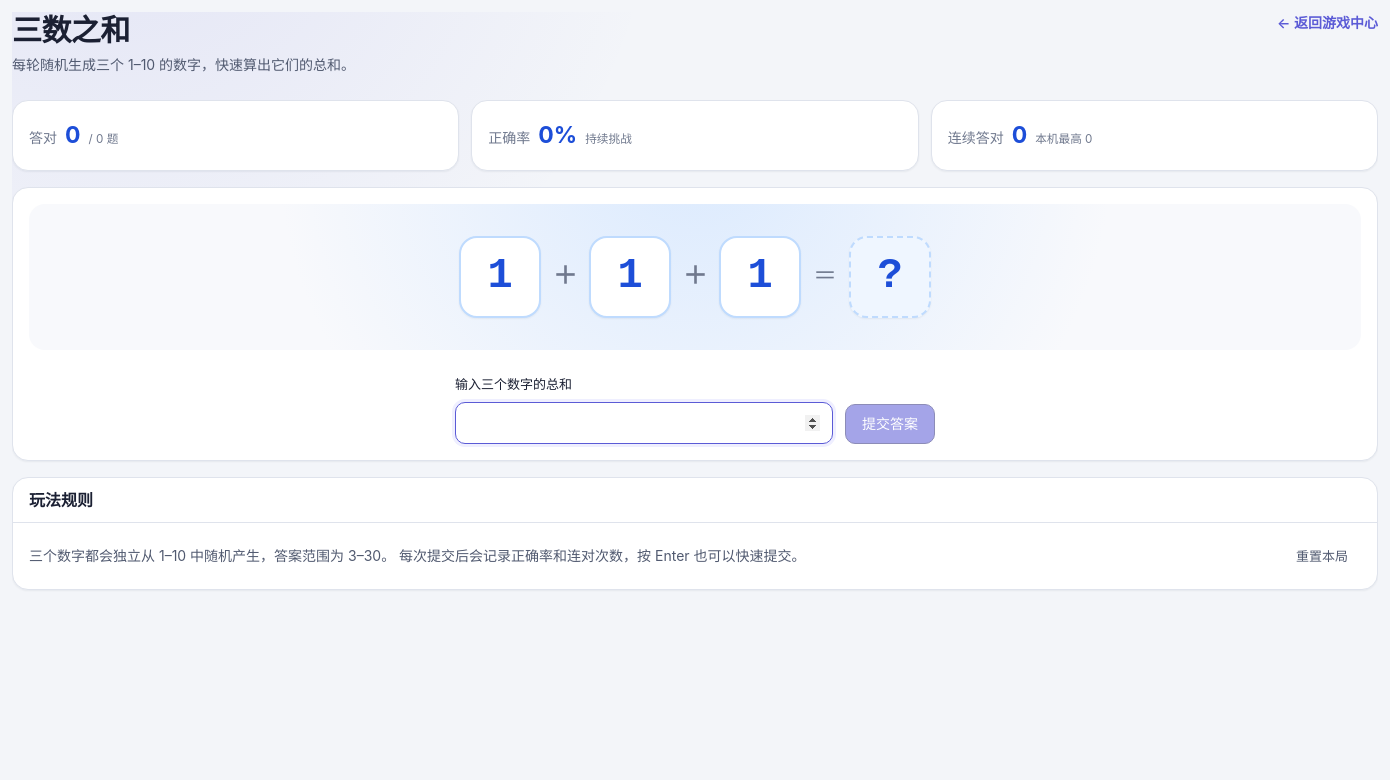
Test: ThreeSumGamePage › accepts a correct total and advances to a fresh question
Type "3" into the number field labelled "输入三个数字的总和". click: (644, 424)
box: [455, 402, 833, 444]
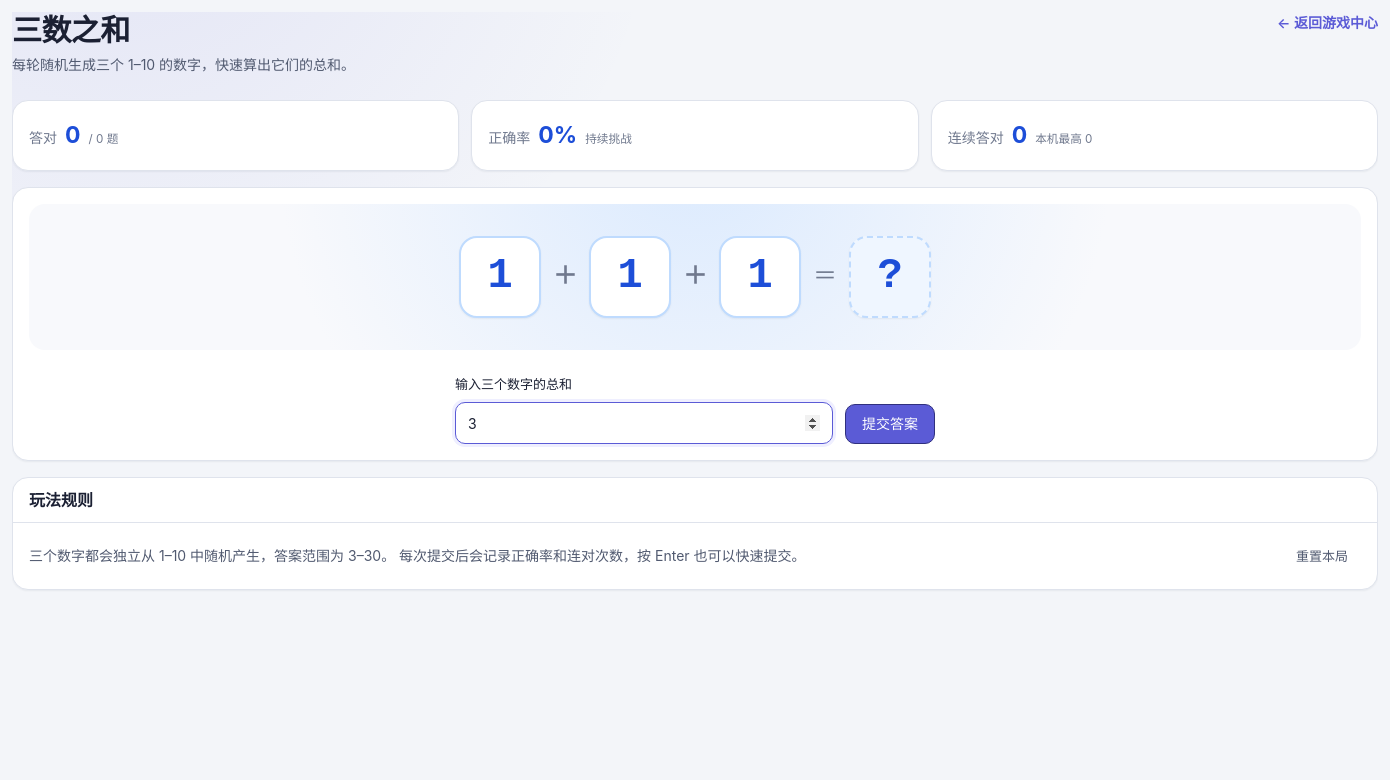
Click the button "提交答案". click: (890, 424)
box: [845, 404, 935, 444]
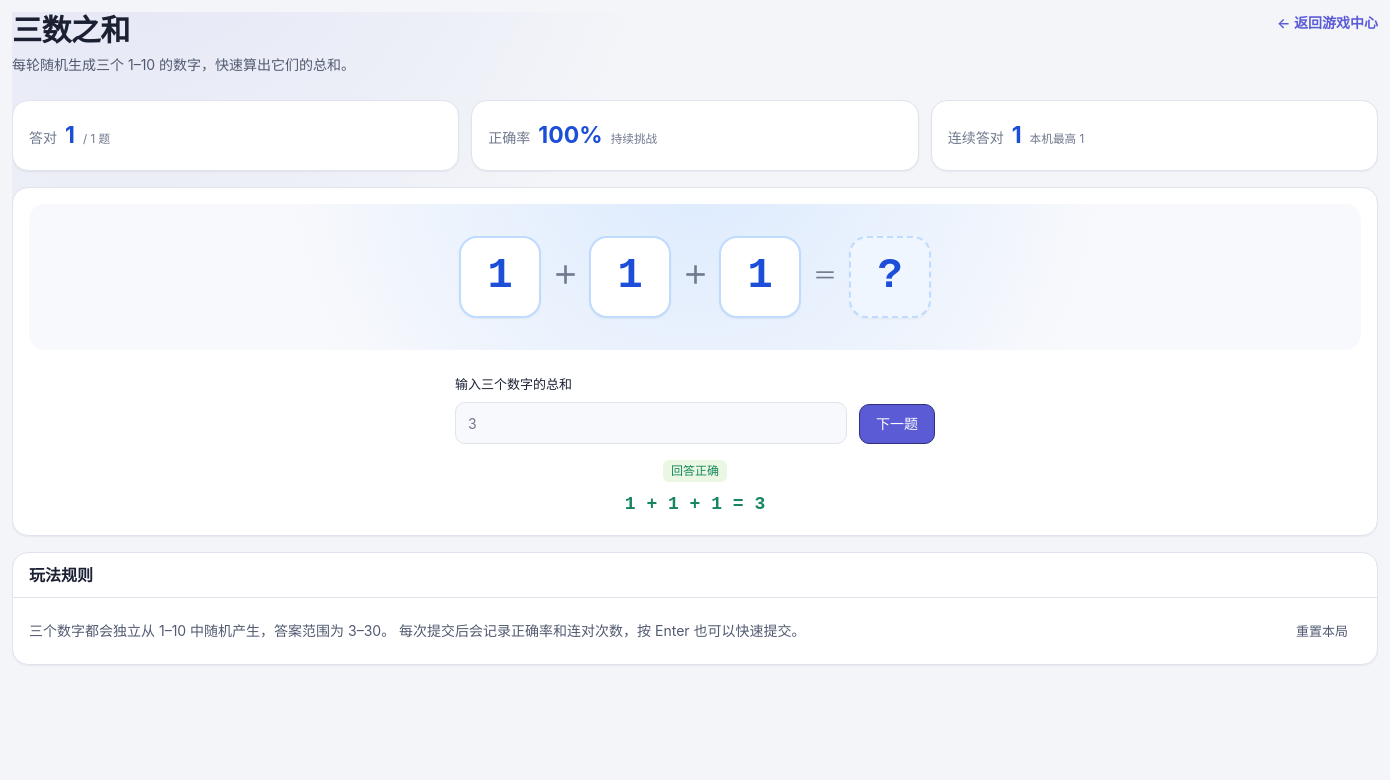
Check: the message shows "回答正确", box [671, 464, 719, 478]
Check: the message shows "1 + 1 + 1 = 3", box [625, 460, 765, 514]
Check: the number field labelled "输入三个数字的总和" is disabled, box [455, 402, 847, 444]
Click the button "下一题". click: (897, 424)
box: [859, 404, 935, 444]
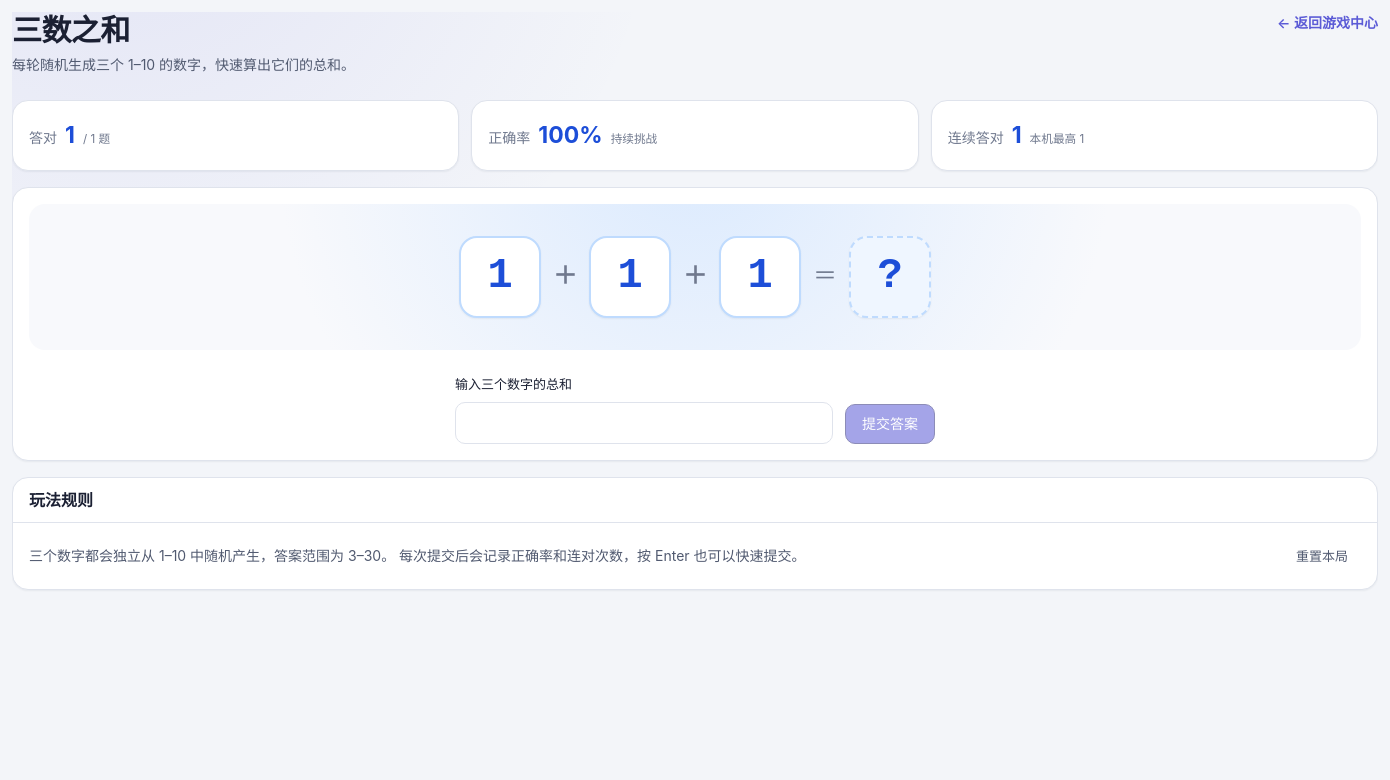
Check: the message "回答正确 1 + 1 + 1 = 3" is gone
Check: the number field labelled "输入三个数字的总和" is enabled, box [455, 402, 833, 444]
Check: the number field labelled "输入三个数字的总和" is not empty, box [455, 402, 833, 444]
